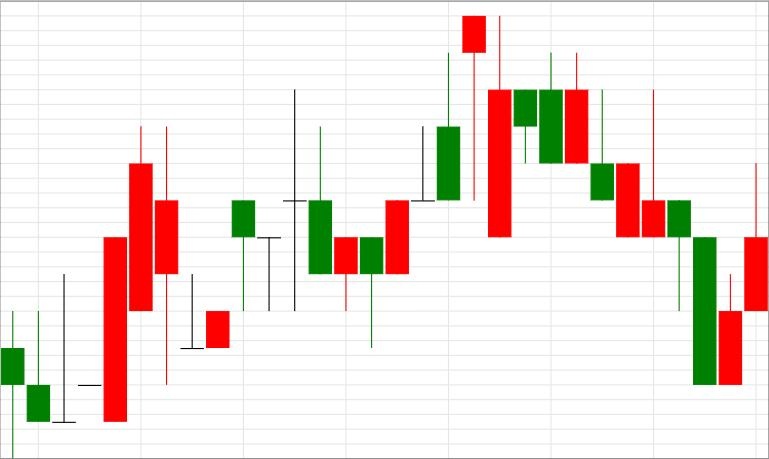hammer_rise: (282, 88, 383, 348)
hanging_man_fall: (360, 16, 486, 347)
